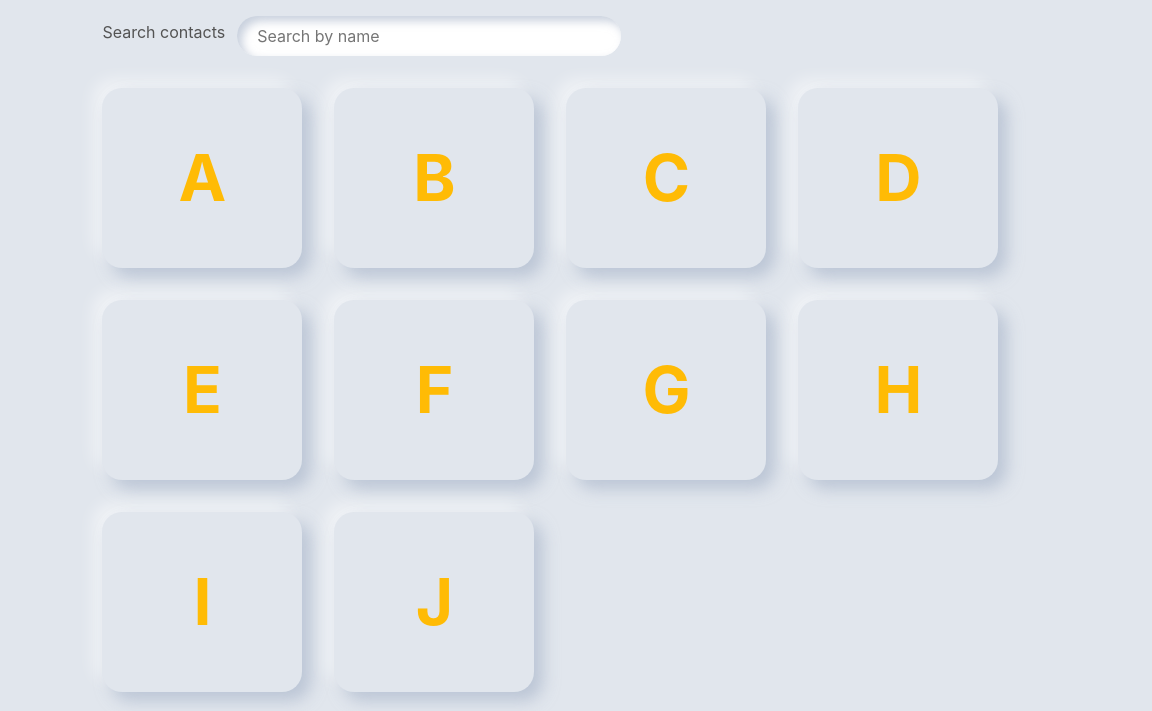
Test: contact search › removing a contact while a search is active keeps the filter applied
The width and height of the screenshot is (1152, 711).
Type "deepesh" into the search field labelled "Search contacts" at (429, 36), box [237,16,621,56]
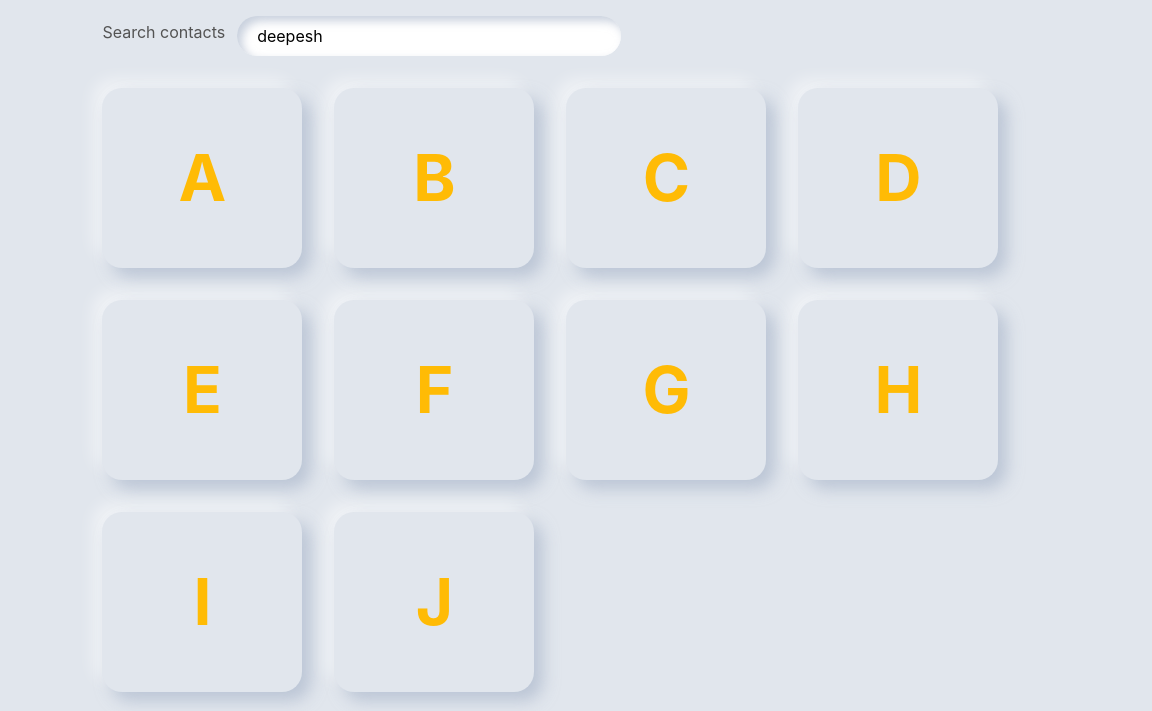
Click the button "A" at (202, 178), box [102,88,302,268]
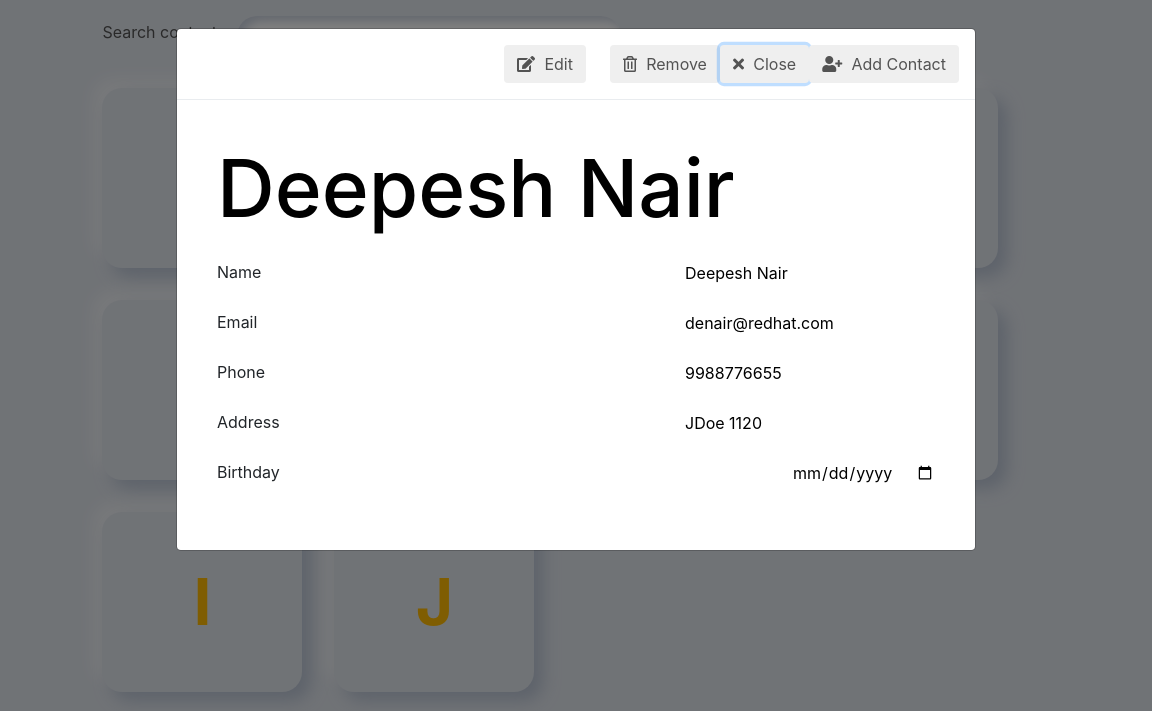
Click the button "Remove" at (665, 64), box [610,45,720,83]
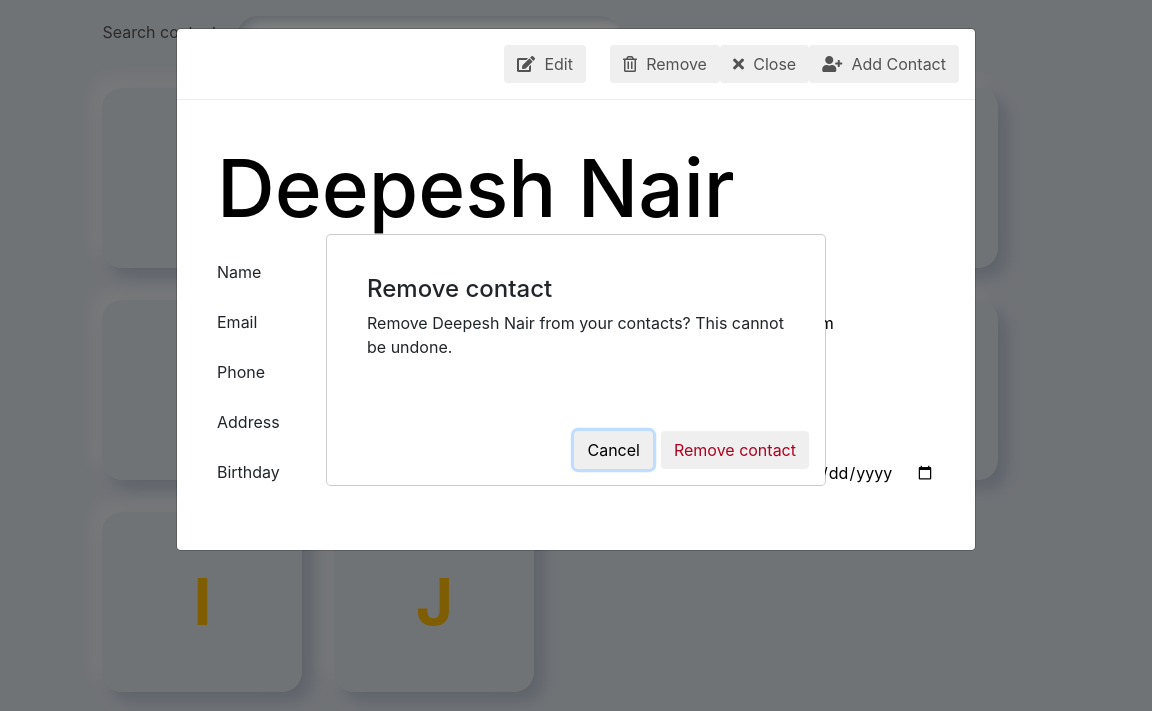
Click the button "Remove contact" at (735, 450), box [661,431,809,469]
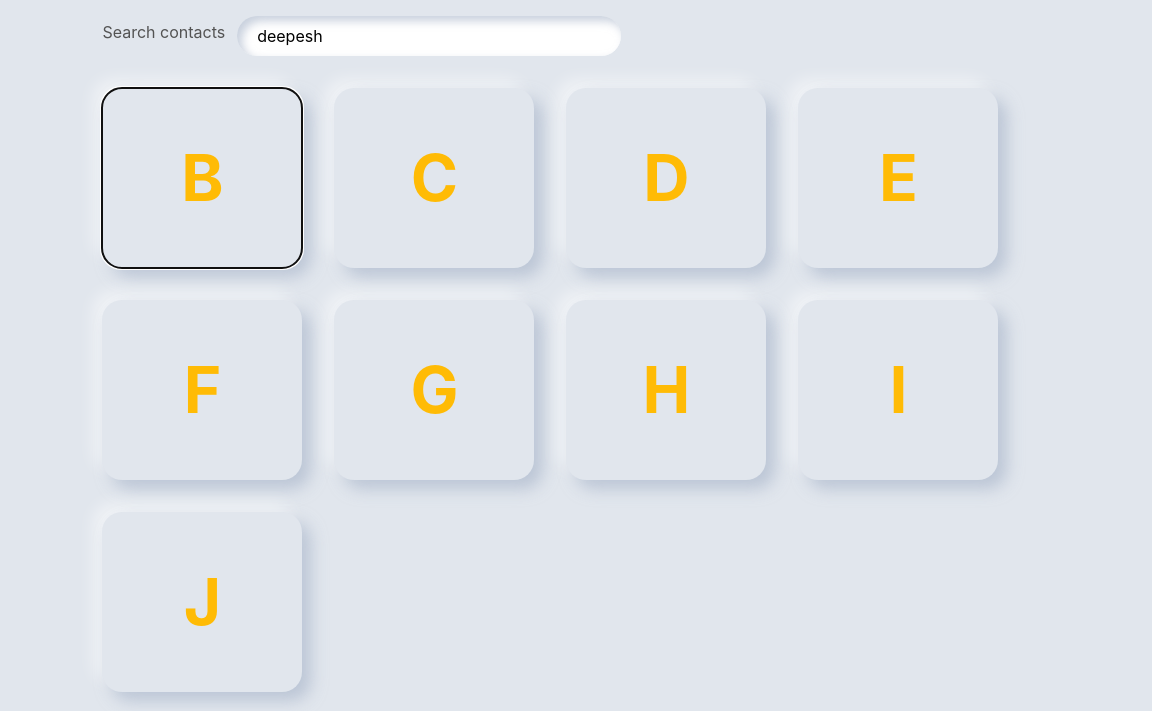
Expected: the number of buttons with class "contact__card" is 9
